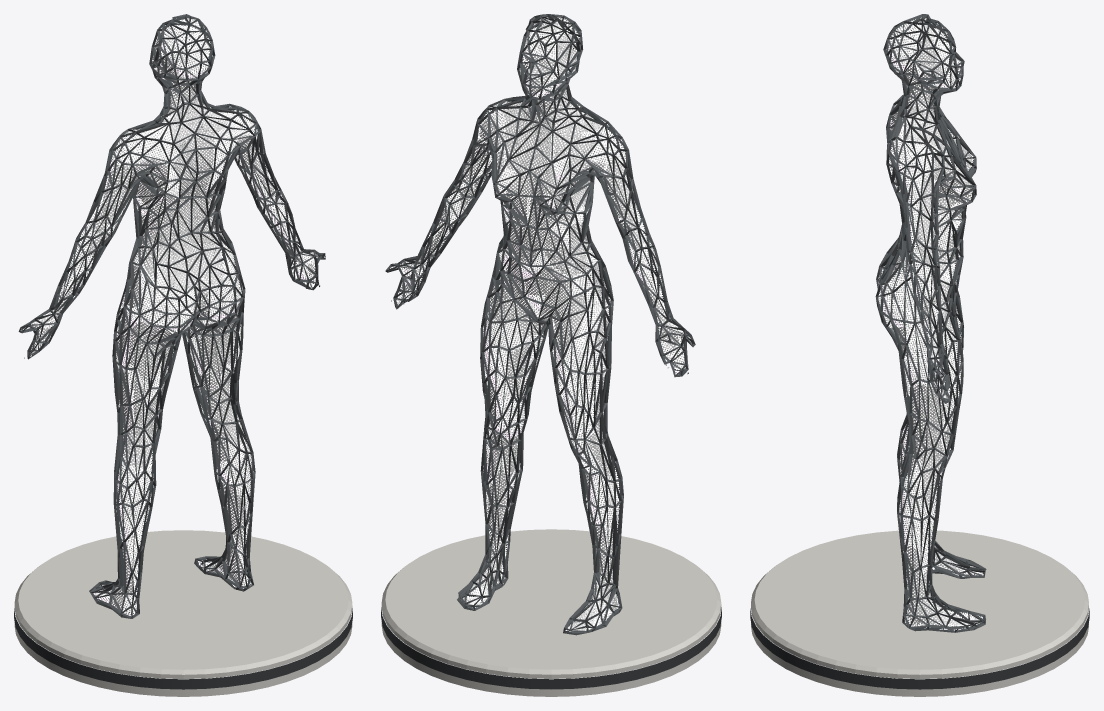
File: r-evolution.glb
The picture shows the model from 3 angles, left to right: view 1: azimuth 30°, elevation 25°; view 2: azimuth 150°, elevation 25°; view 3: azimuth 270°, elevation 25°; orthographic projection.
Visible parts, largest first — view 1: frame, plinth, glow, shell; view 2: frame, plinth, glow, shell; view 3: plinth, frame, glow, shell.
Boxes of the visible parts, x1=… form: frame: x1=18, y1=14, x2=325, y2=618; plinth: x1=14, y1=530, x2=352, y2=696; glow: x1=20, y1=18, x2=325, y2=616; shell: x1=24, y1=19, x2=318, y2=615; frame: x1=385, y1=14, x2=695, y2=635; plinth: x1=381, y1=529, x2=721, y2=696; glow: x1=390, y1=17, x2=690, y2=631; shell: x1=391, y1=17, x2=691, y2=630; plinth: x1=750, y1=530, x2=1089, y2=696; frame: x1=875, y1=14, x2=986, y2=632; glow: x1=878, y1=17, x2=983, y2=630; shell: x1=880, y1=18, x2=981, y2=629.
Size of the model in its own units: 7.53 by 14.29 by 7.22.
5 materials, 2 textured.
